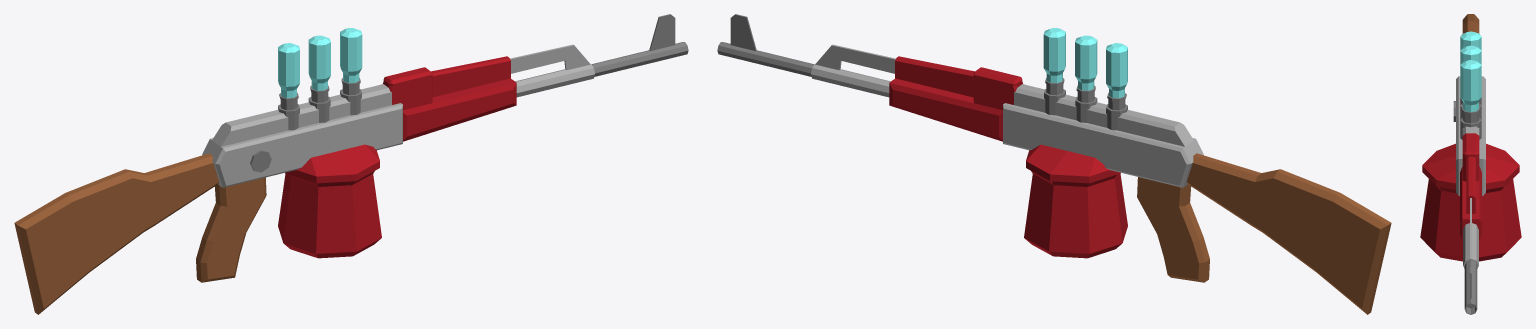
Rendered from akafetera 34g.fbx.
3 renders of one model, left to right at view 1: azimuth 30°, elevation 25°; view 2: azimuth 150°, elevation 25°; view 3: azimuth 270°, elevation 25°, orthographic. The views are drawn at different scales.
Visible parts, largest first — view 1: arma, botellas; view 2: arma, botellas; view 3: arma, botellas.
Boxes of the visible parts, box(x1,y1,x2,y2) form: arma: box(14, 14, 688, 314); botellas: box(278, 28, 362, 98); arma: box(717, 14, 1391, 314); botellas: box(1043, 28, 1127, 98); arma: box(1420, 14, 1521, 314); botellas: box(1460, 31, 1481, 111).
Size of the model in its own units: 158 by 48.87 by 22.02.
2 materials, 2 textured.
